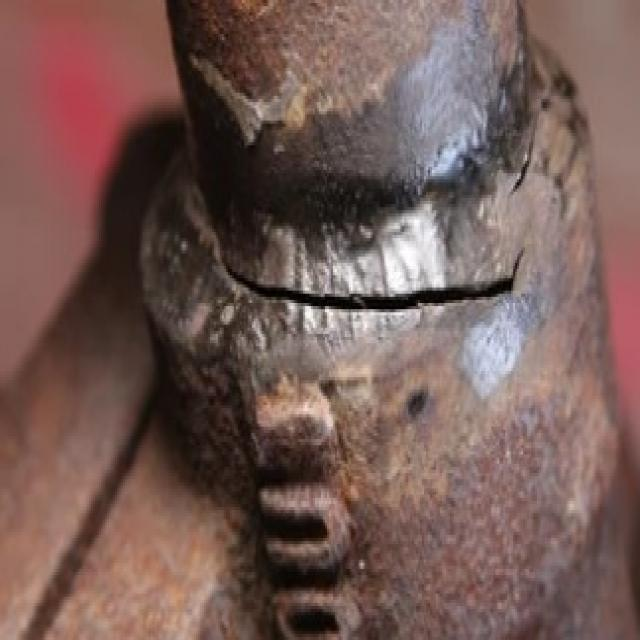Crack: (202, 237, 525, 324), (507, 120, 533, 198)
